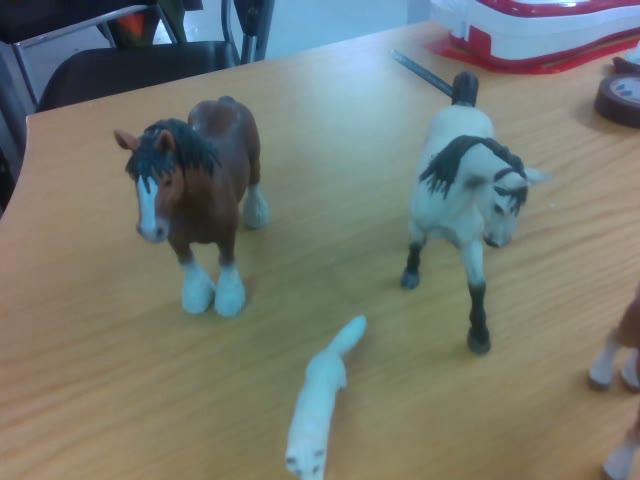toy: (398, 73, 548, 356), (114, 96, 267, 315), (283, 315, 365, 480)
